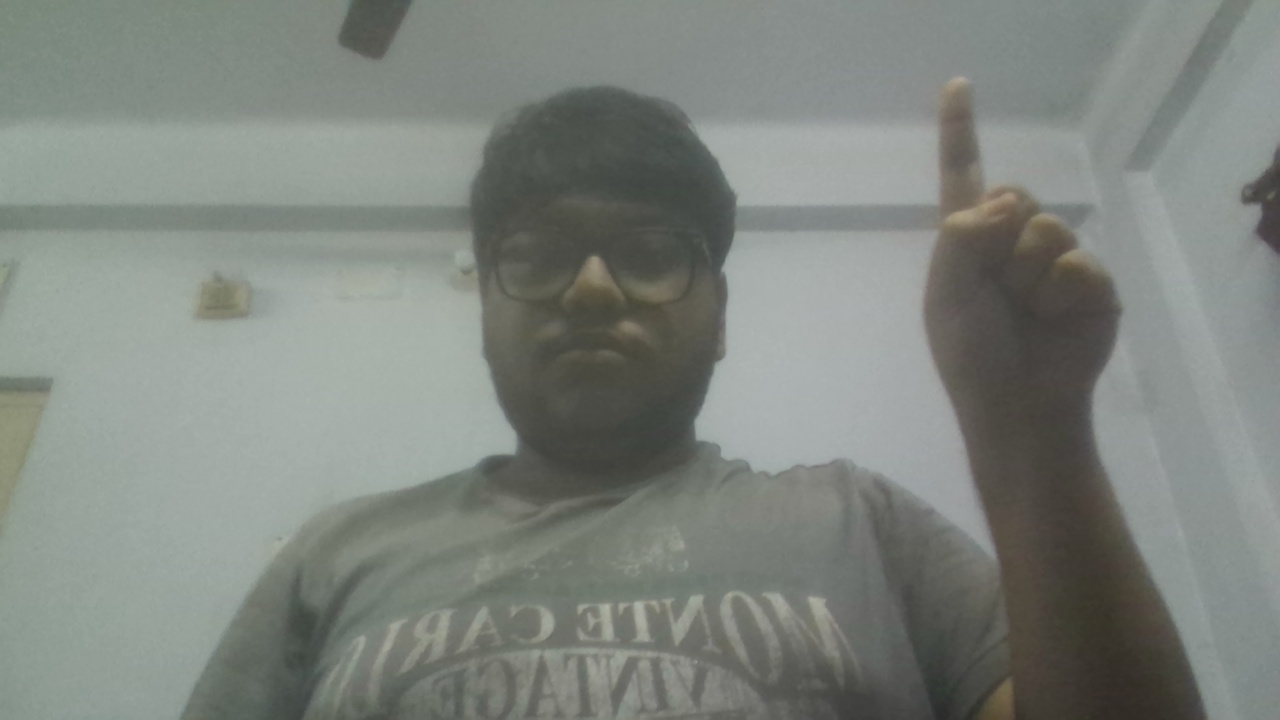Gesture1: (912, 67, 1134, 442)
